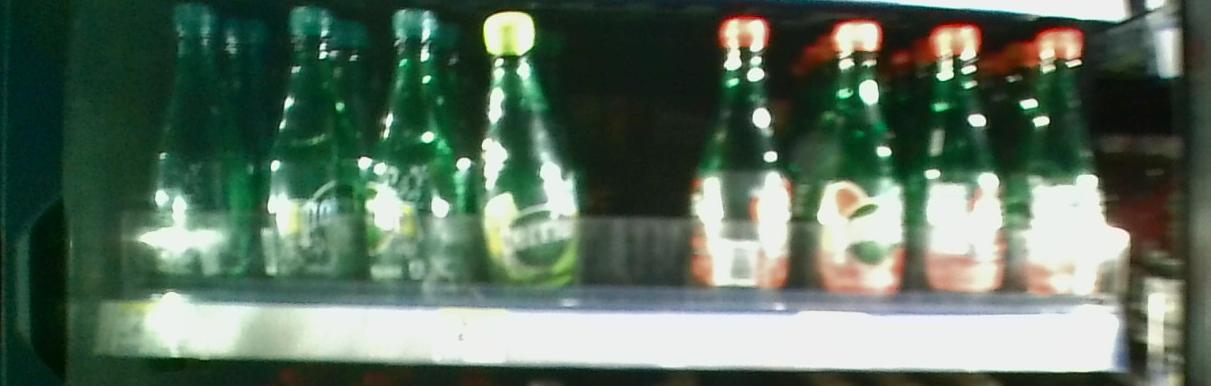bottle: (472, 10, 582, 303), (364, 5, 465, 294), (262, 4, 357, 291), (696, 6, 790, 296), (818, 17, 908, 307), (919, 24, 1008, 316), (1022, 30, 1113, 315), (160, 10, 252, 288)
